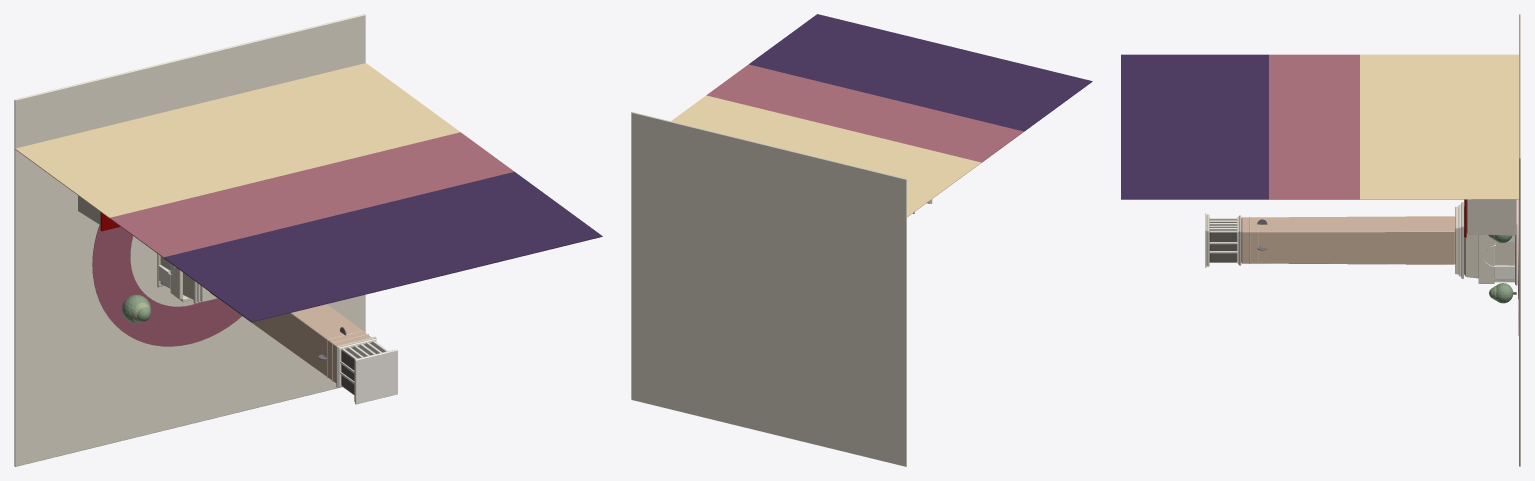
File: albritton-bell-tower.glb
3 renders of one model, left to right at view 1: azimuth 30°, elevation 25°; view 2: azimuth 150°, elevation 25°; view 3: azimuth 270°, elevation 25°, orthographic. The views are drawn at different scales.
Visible parts, largest first — view 1: ground, sky_0, sky_2, sky_1, maroon_drive, brick_shaft, belfry_cap2, stone_plaza, belfry_dark; view 2: ground, sky_2, sky_1, sky_0; view 3: sky_0, sky_2, sky_1, brick_shaft, campus_bg_1, stone_base, belfry_dark, ground, arch_spandrel_1.
Boxes of the visible parts, left/top/right/bottom form: ground: left=14, top=14, right=365, bottom=466; sky_0: left=15, top=63, right=460, bottom=218; sky_2: left=163, top=171, right=602, bottom=322; sky_1: left=109, top=132, right=514, bottom=257; maroon_drive: left=92, top=225, right=241, bottom=346; brick_shaft: left=210, top=292, right=371, bottom=382; belfry_cap2: left=355, top=349, right=397, bottom=404; stone_plaza: left=130, top=236, right=194, bottom=306; belfry_dark: left=341, top=342, right=385, bottom=394; ground: left=631, top=112, right=906, bottom=466; sky_2: left=749, top=14, right=1092, bottom=131; sky_1: left=706, top=64, right=1023, bottom=162; sky_0: left=671, top=95, right=981, bottom=217; sky_0: left=1360, top=54, right=1518, bottom=199; sky_2: left=1121, top=54, right=1268, bottom=199; sky_1: left=1269, top=54, right=1359, bottom=199; brick_shaft: left=1241, top=216, right=1455, bottom=264; campus_bg_1: left=1466, top=199, right=1516, bottom=235; stone_base: left=1464, top=206, right=1514, bottom=282; belfry_dark: left=1209, top=219, right=1237, bottom=262; ground: left=1519, top=14, right=1520, bottom=466; arch_spandrel_1: left=1478, top=234, right=1494, bottom=282.
Bounding box in the file's own units: 150 × 150 × 176.
